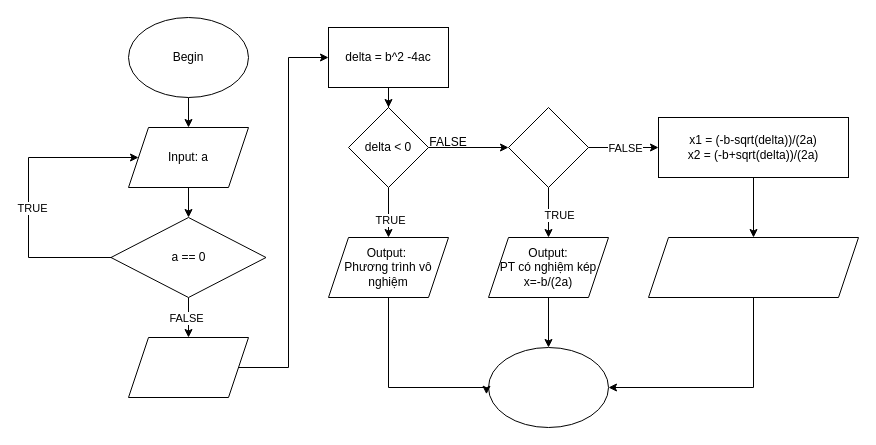
Image size: 876x445. Some labels were removed from this diagram. Here are the shapes that lost their labels. From the top down, the centre of each, then its label:
At point 548,147: "delta == 0".
At point 753,267: "Output: PT có 2 nghiệm phân biệt x1, x2".
At point 188,367: "Input: b,c".
At point 548,387: "End".
